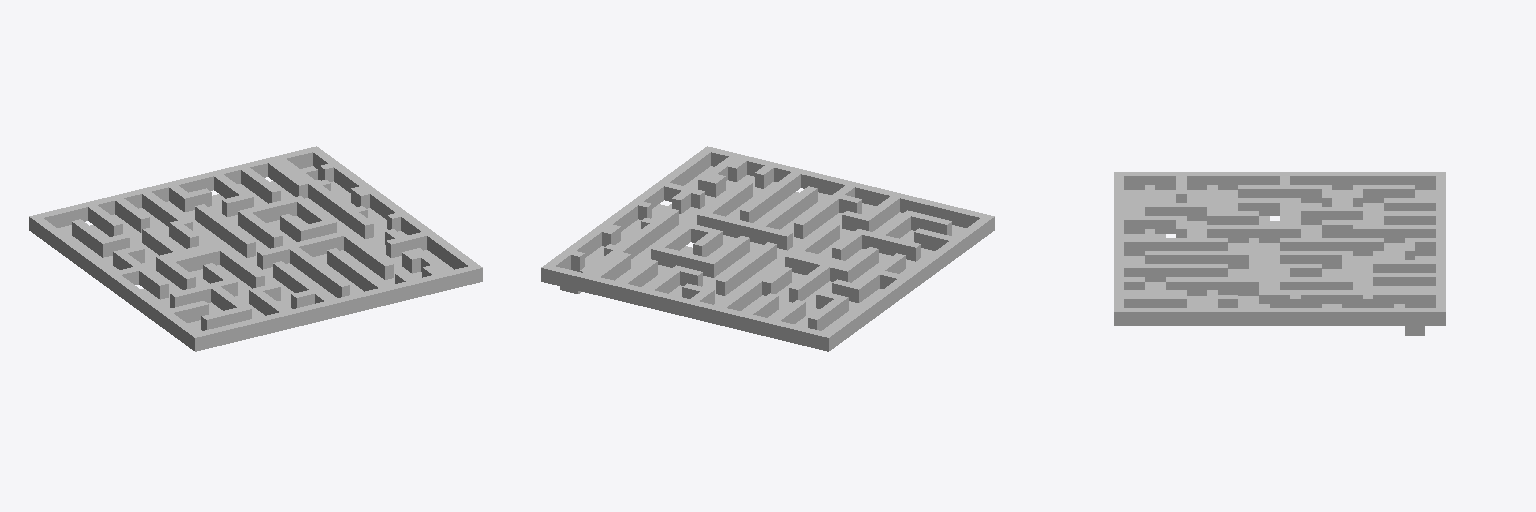
File: LabyrinthBoard.obj
The picture shows the model from 3 angles: view 1: azimuth 30°, elevation 25°; view 2: azimuth 150°, elevation 25°; view 3: azimuth 270°, elevation 25°; orthographic projection.
Parts seen in each view (by area): view 1: Plane; view 2: Plane; view 3: Plane.
Boxes of the visible parts, <box> form: Plane: <box>29,146,482,351</box>; Plane: <box>541,146,994,351</box>; Plane: <box>1114,172,1445,335</box>.
Size of the model in its own units: 21.71 by 2 by 21.71.